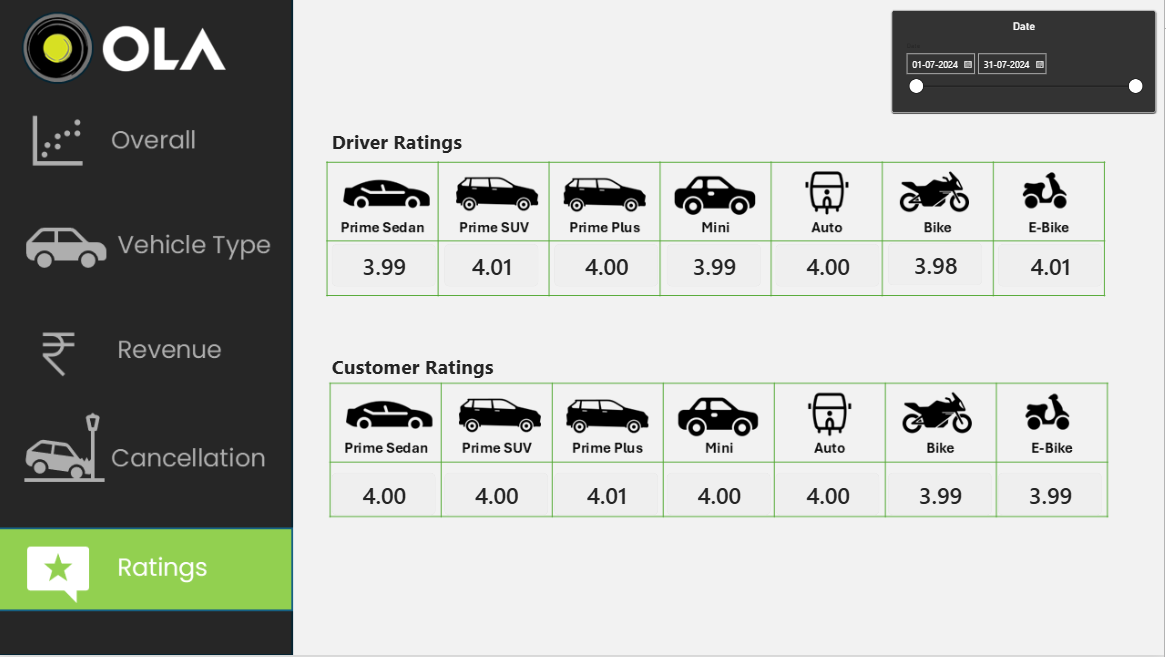

Layout of this report page (visuals, bound fields, positions):
{"tool":"powerbi","page":{"name":"Ratings","canvas":[1920,1080],"ordinal":4},"visuals":[{"type":"actionButton","box":[0,335,484.1,135.7],"z":0},{"type":"actionButton","box":[1.7,510.9,484.1,135.7],"z":1000},{"type":"actionButton","box":[1.7,678.4,484.1,135.7],"z":2000},{"type":"actionButton","box":[0,869.3,484.1,135.7],"z":3000},{"type":"actionButton","box":[1.7,169.2,484.1,135.7],"z":4000},{"type":"cardVisual","fields":{"Data":["Avg(July.Driver_Ratings)"]},"box":[548.7,403.8,171.2,70.2],"z":4001},{"type":"cardVisual","fields":{"Data":["Avg(July.Driver_Ratings)"]},"box":[735.3,403.8,155.8,70.2],"z":4002},{"type":"cardVisual","fields":{"Data":["Avg(July.Driver_Ratings)"]},"box":[915.2,403.8,171.2,70.2],"z":4003},{"type":"cardVisual","fields":{"Data":["Avg(July.Driver_Ratings)"]},"box":[1101.8,403.8,155.8,70.2],"z":4004},{"type":"cardVisual","fields":{"Data":["Avg(July.Driver_Ratings)"]},"box":[1279.6,403.8,171.2,70.2],"z":4005},{"type":"cardVisual","fields":{"Data":["Avg(July.Driver_Ratings)"]},"box":[1466.1,401.6,155.8,70.2],"z":4006},{"type":"cardVisual","fields":{"Data":["Avg(July.Driver_Ratings)"]},"box":[1646.1,403.8,171.2,70.2],"z":4007},{"type":"cardVisual","fields":{"Data":["Avg(July.Customer_Rating)"]},"box":[548.7,779.2,171.2,70.2],"z":4008},{"type":"cardVisual","fields":{"Data":["Avg(July.Customer_Rating)"]},"box":[735.3,779.2,171.2,70.2],"z":4009},{"type":"cardVisual","fields":{"Data":["Avg(July.Customer_Rating)"]},"box":[915.2,779.2,171.2,70.2],"z":4010},{"type":"cardVisual","fields":{"Data":["Avg(July.Customer_Rating)"]},"box":[1101.8,779.2,171.2,70.2],"z":4011},{"type":"cardVisual","fields":{"Data":["Avg(July.Customer_Rating)"]},"box":[1279.6,779.2,171.2,70.2],"z":4012},{"type":"cardVisual","fields":{"Data":["Avg(July.Customer_Rating)"]},"box":[1466.1,779.2,171.2,70.2],"z":4013},{"type":"cardVisual","fields":{"Data":["Avg(July.Customer_Rating)"]},"box":[1646.1,779.2,171.2,70.2],"z":4014},{"type":"textbox","box":[548.7,212.9,226.1,52.7],"z":4015},{"type":"textbox","box":[548.7,581.6,283.1,65.8],"z":4016},{"type":"slicer","title":"Date","fields":{"Values":["July.Date"]},"box":[1471.7,18.5,434.3,168.8],"z":4017}]}

Visuals, with their boxes on the page's 1920x1080 design canvas (x1, y1, x2, y2). These are canvas units, not pixel positions in the 1166x657 screenshot, which may show the page scaled, cropped or inside an application window:
actionButton: (left=0, top=335, right=484, bottom=471)
actionButton: (left=2, top=511, right=486, bottom=647)
actionButton: (left=2, top=678, right=486, bottom=814)
actionButton: (left=0, top=869, right=484, bottom=1005)
actionButton: (left=2, top=169, right=486, bottom=305)
cardVisual - Avg(July.Driver_Ratings): (left=549, top=404, right=720, bottom=474)
cardVisual - Avg(July.Driver_Ratings): (left=735, top=404, right=891, bottom=474)
cardVisual - Avg(July.Driver_Ratings): (left=915, top=404, right=1086, bottom=474)
cardVisual - Avg(July.Driver_Ratings): (left=1102, top=404, right=1258, bottom=474)
cardVisual - Avg(July.Driver_Ratings): (left=1280, top=404, right=1451, bottom=474)
cardVisual - Avg(July.Driver_Ratings): (left=1466, top=402, right=1622, bottom=472)
cardVisual - Avg(July.Driver_Ratings): (left=1646, top=404, right=1817, bottom=474)
cardVisual - Avg(July.Customer_Rating): (left=549, top=779, right=720, bottom=849)
cardVisual - Avg(July.Customer_Rating): (left=735, top=779, right=906, bottom=849)
cardVisual - Avg(July.Customer_Rating): (left=915, top=779, right=1086, bottom=849)
cardVisual - Avg(July.Customer_Rating): (left=1102, top=779, right=1273, bottom=849)
cardVisual - Avg(July.Customer_Rating): (left=1280, top=779, right=1451, bottom=849)
cardVisual - Avg(July.Customer_Rating): (left=1466, top=779, right=1637, bottom=849)
cardVisual - Avg(July.Customer_Rating): (left=1646, top=779, right=1817, bottom=849)
textbox: (left=549, top=213, right=775, bottom=266)
textbox: (left=549, top=582, right=832, bottom=647)
"Date" slicer: (left=1472, top=18, right=1906, bottom=187)
